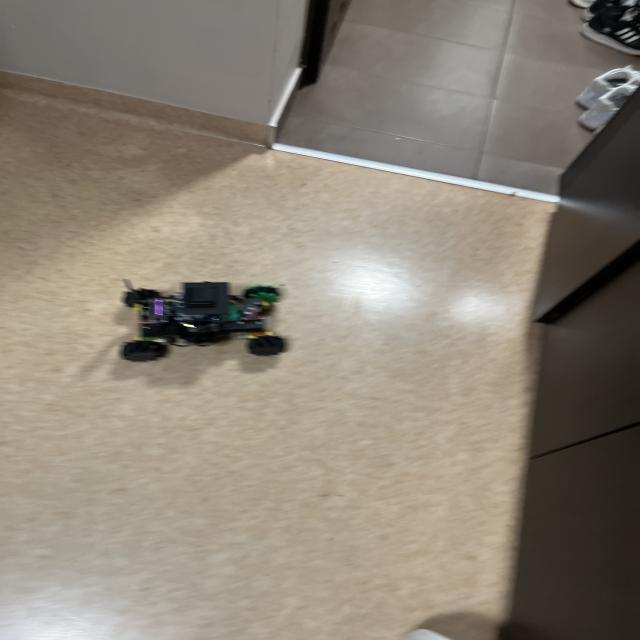robot: (122, 281, 286, 361)
